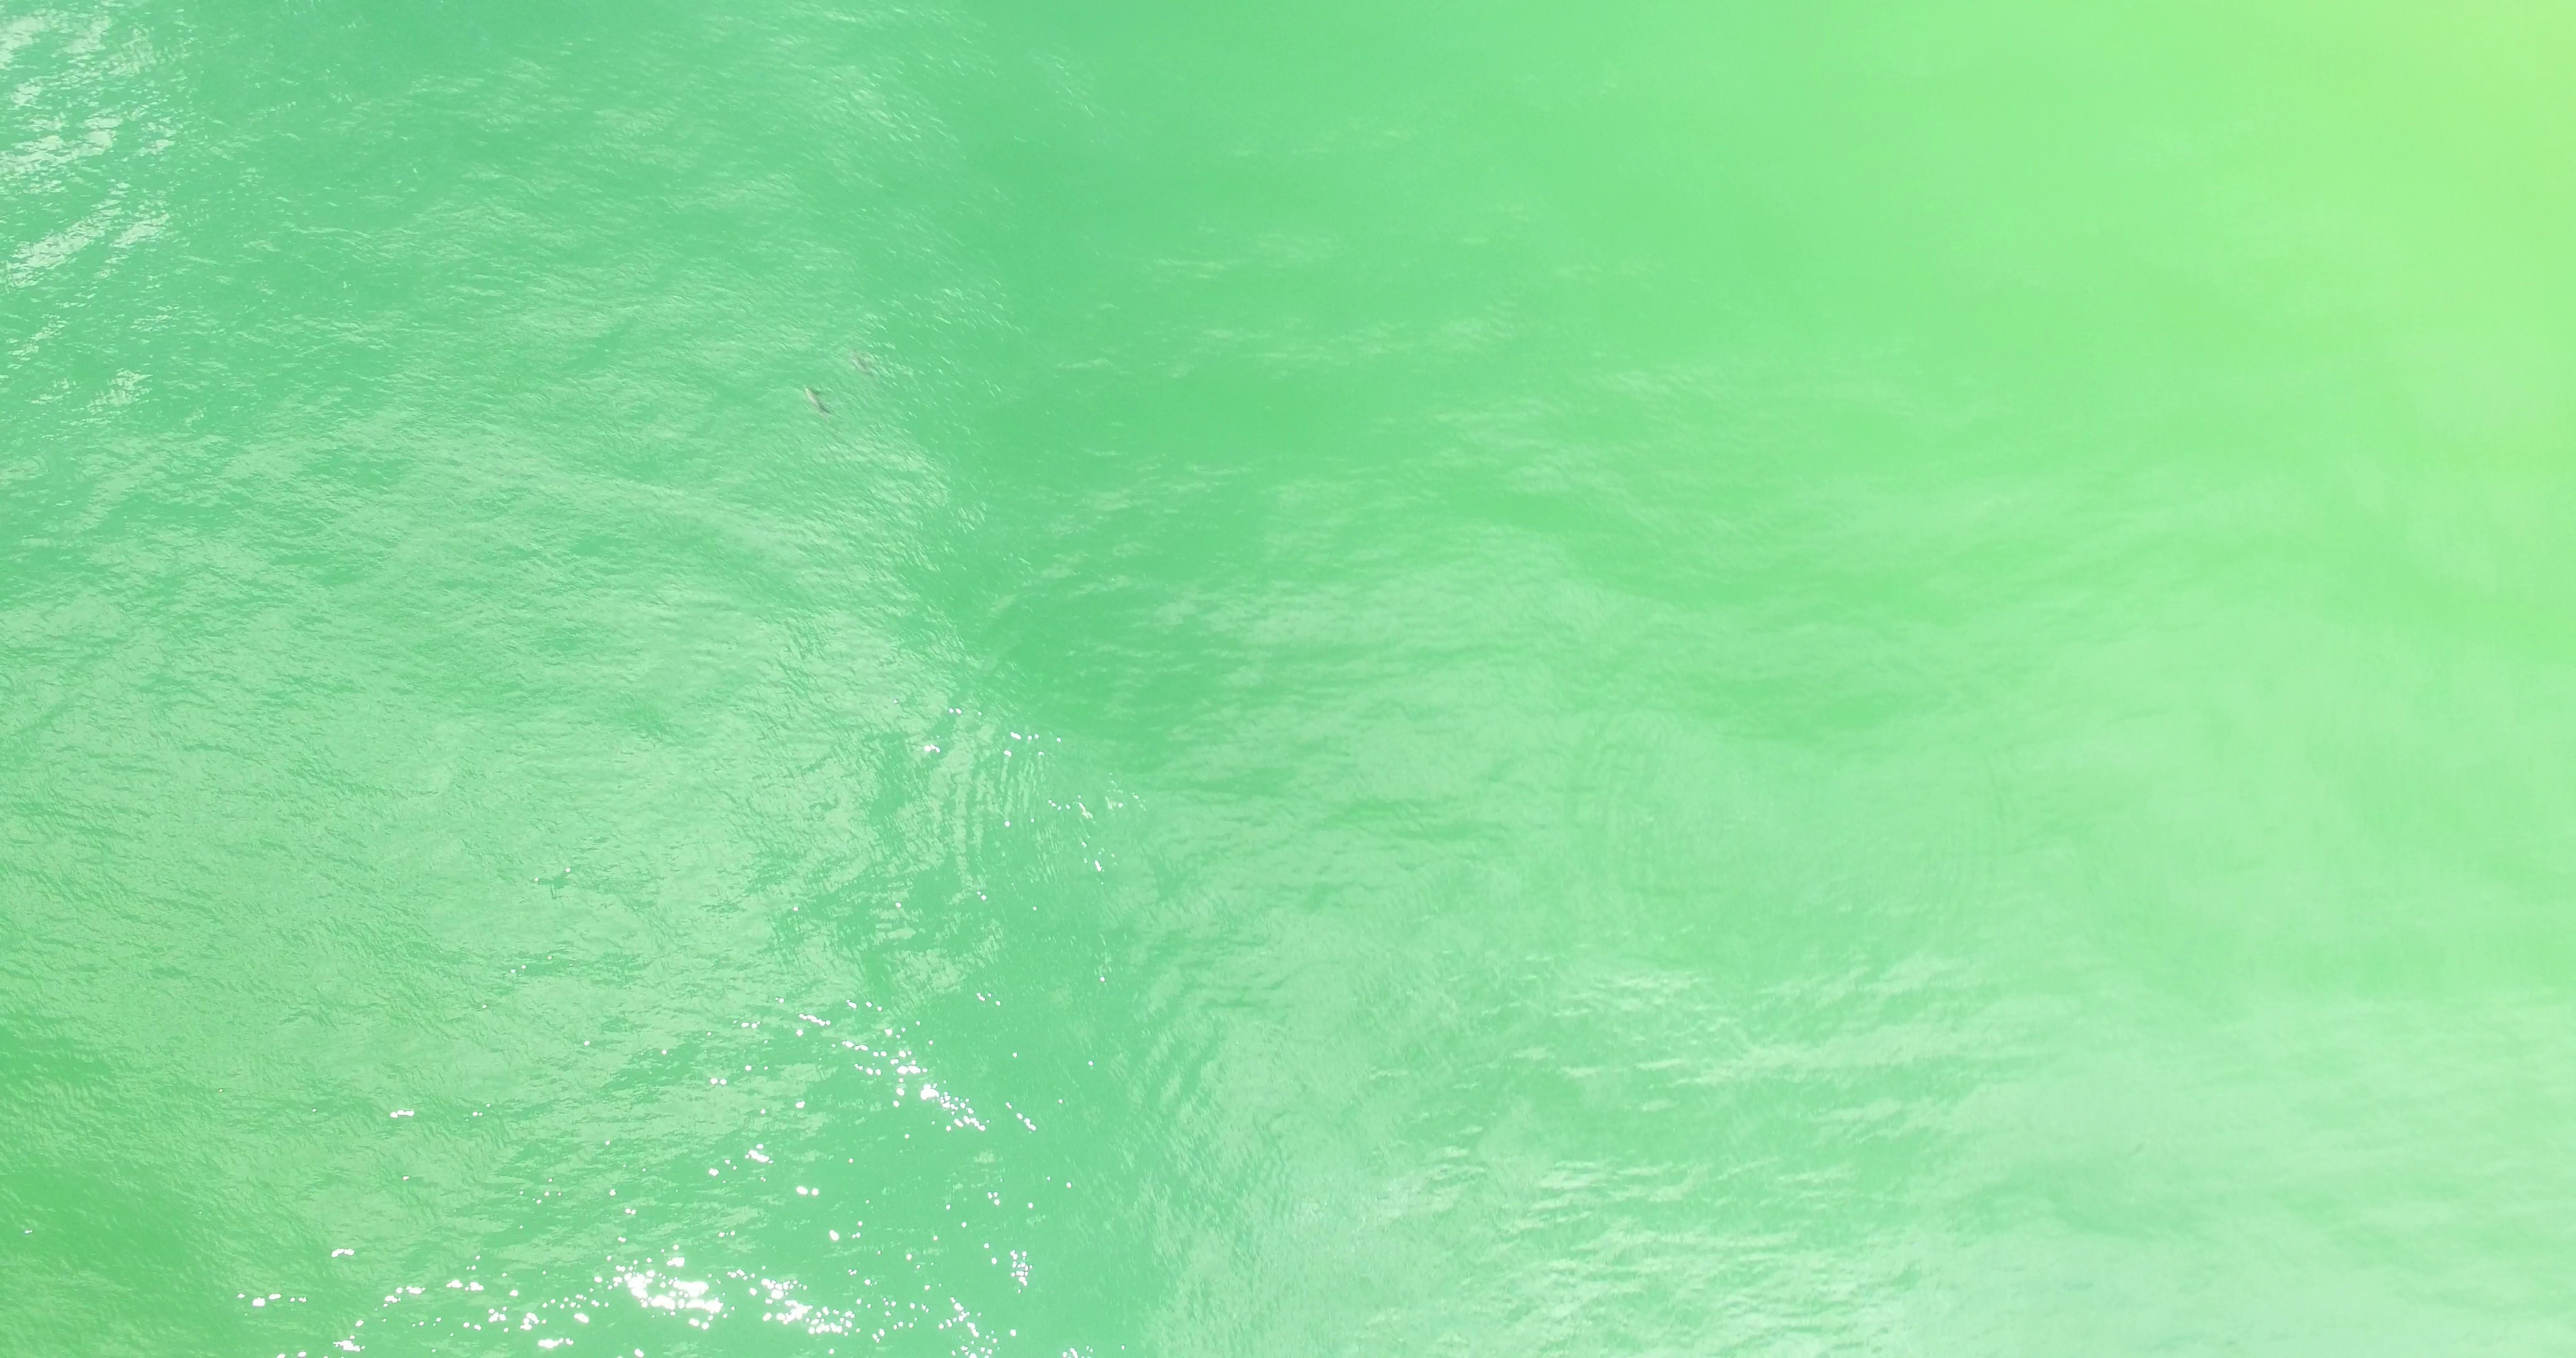dolphin: (850, 349, 883, 377), (802, 382, 828, 412)
